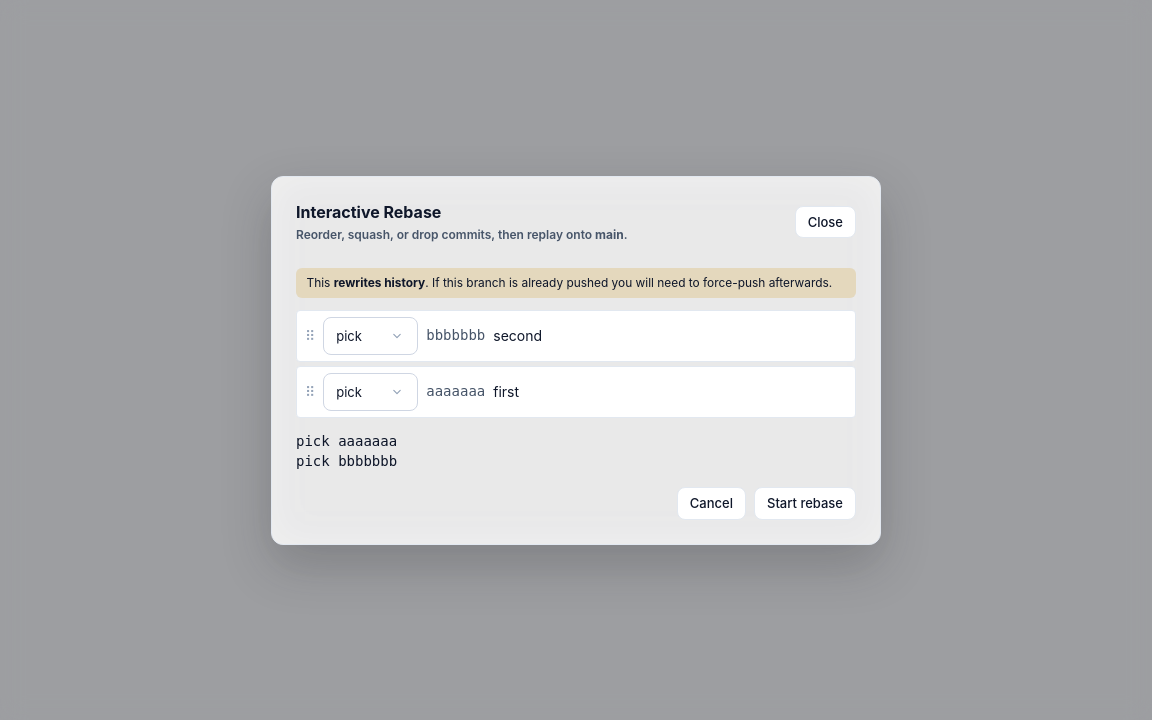
Scenario: InteractiveRebaseDialog › keeps the dialog open on a non-conflict error
The image size is (1152, 720).
Expected: the text "first" is shown, x1=493 y1=383 x2=519 y2=400
Click the button "Start rebase" at (805, 503), box x1=754 y1=487 x2=856 y2=520
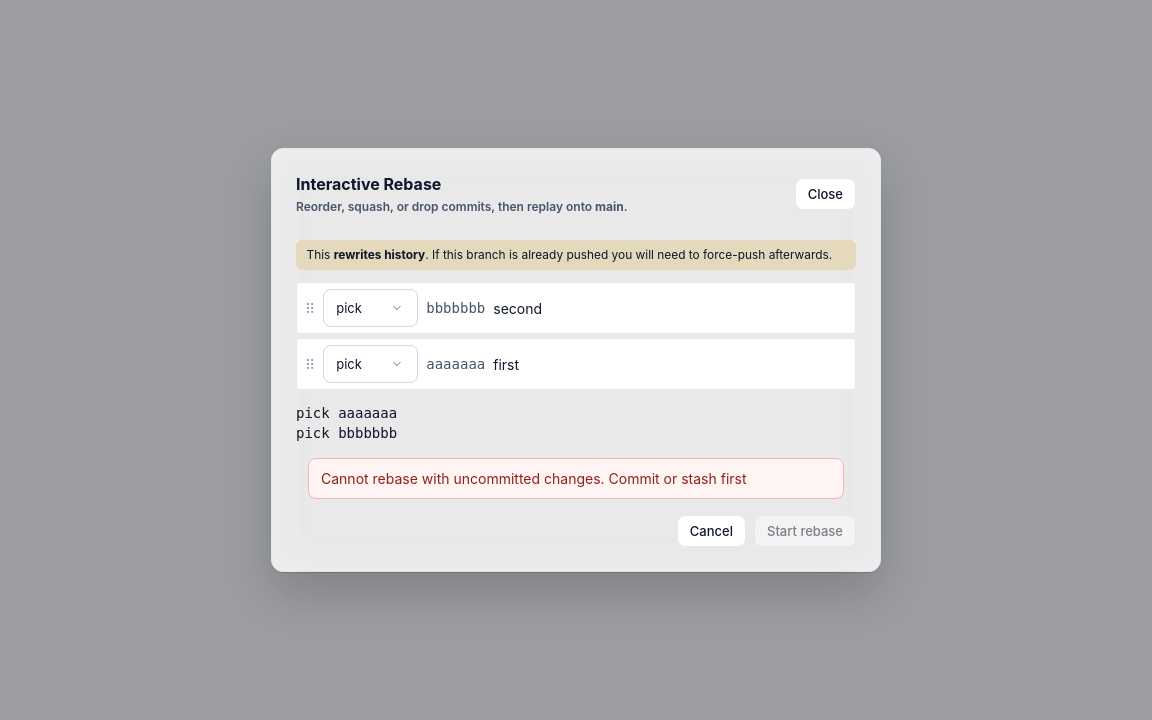
Now the message shows "Cannot rebase with uncommitted changes.", box x1=321 y1=470 x2=605 y2=486
